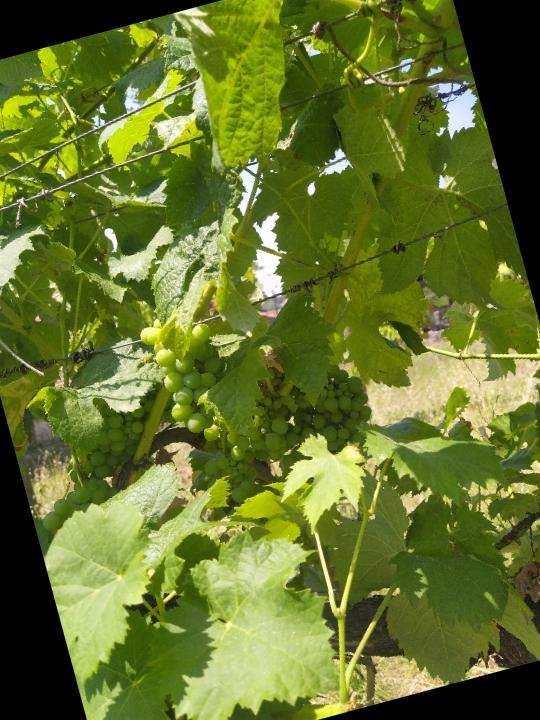grape: (132, 300, 245, 456), (276, 354, 381, 465)
